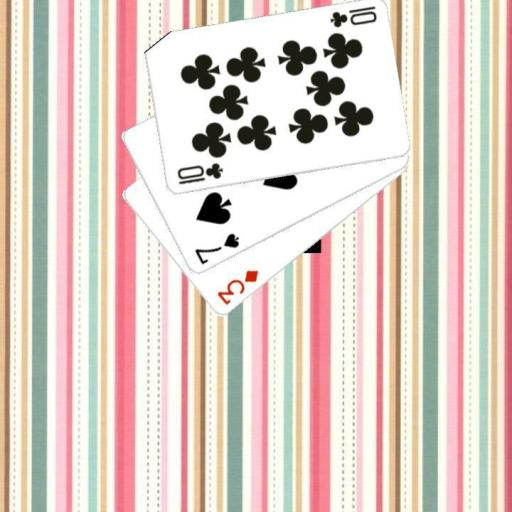card-corner: (191, 230, 241, 267), (214, 267, 260, 307), (174, 160, 224, 186), (326, 4, 378, 29)
